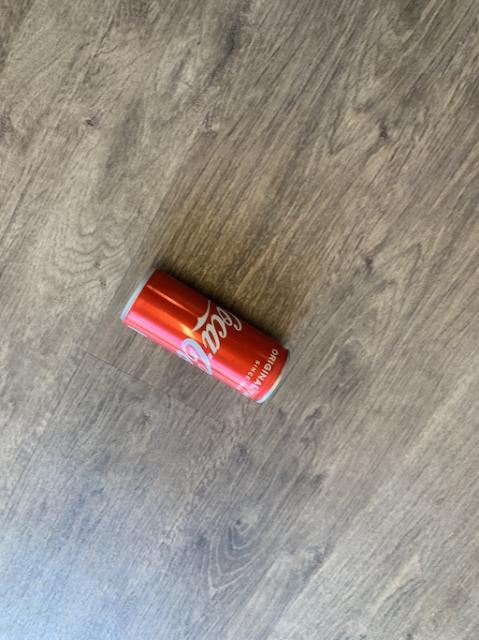metal: (120, 268, 287, 400)
